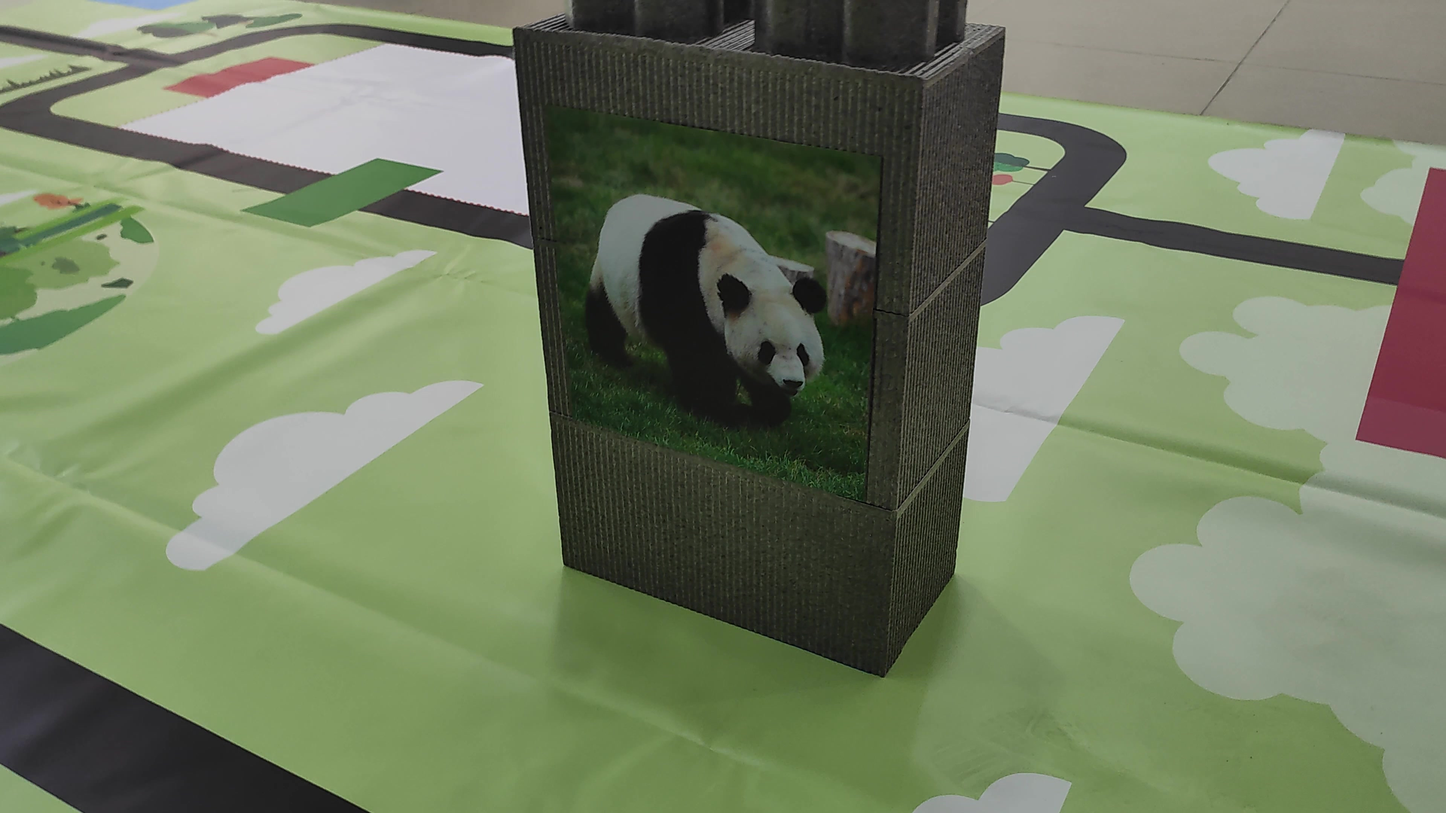panda: (571, 172, 860, 441)
